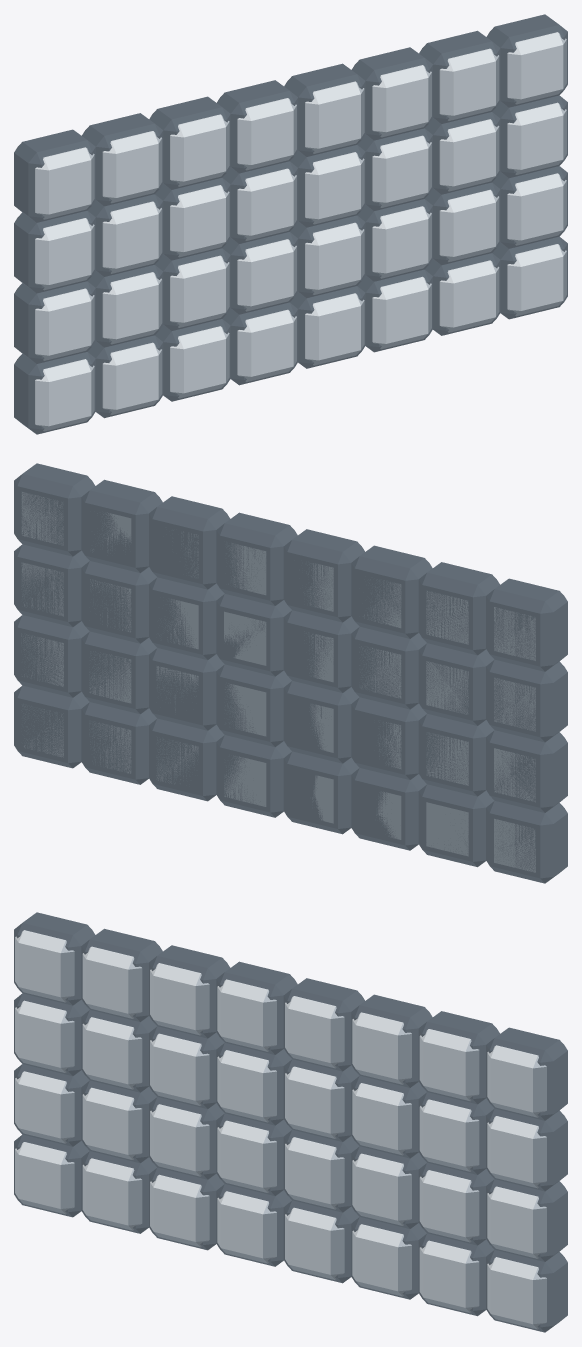
The model's file is Terrain_Block8x4.gltf.
3 renders of one model, top to bottom at view 1: azimuth 30°, elevation 25°; view 2: azimuth 150°, elevation 25°; view 3: azimuth 330°, elevation 25°, orthographic.
Visible parts, largest first — view 1: Terrain_Block8x4_baked; view 2: Terrain_Block8x4_baked; view 3: Terrain_Block8x4_baked.
Boxes of the visible parts, bbox=[...] form: Terrain_Block8x4_baked: bbox=[14, 14, 567, 434]; Terrain_Block8x4_baked: bbox=[14, 463, 567, 883]; Terrain_Block8x4_baked: bbox=[14, 912, 567, 1332].
Bounding box in the file's own units: 8 × 4 × 0.7.
